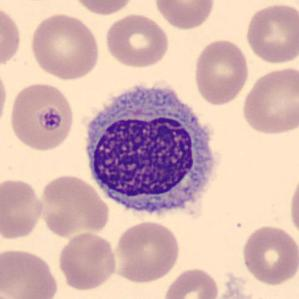Monocyte: (77, 75, 226, 227)
Platelets: (38, 105, 63, 133)
RBC: (28, 11, 102, 82), (7, 81, 76, 152), (38, 172, 111, 239), (110, 219, 182, 284), (240, 64, 298, 136), (192, 37, 251, 106), (103, 11, 171, 70), (55, 231, 118, 292), (239, 223, 298, 287), (243, 2, 298, 66), (0, 246, 61, 299), (0, 176, 45, 242), (161, 265, 222, 299), (153, 0, 217, 31), (0, 2, 23, 71), (68, 0, 138, 16), (286, 168, 299, 240), (0, 65, 9, 132)
